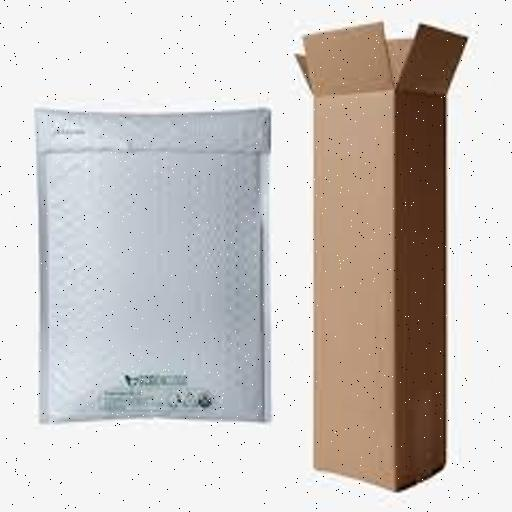Other: (28, 101, 282, 434), (304, 95, 454, 495)
